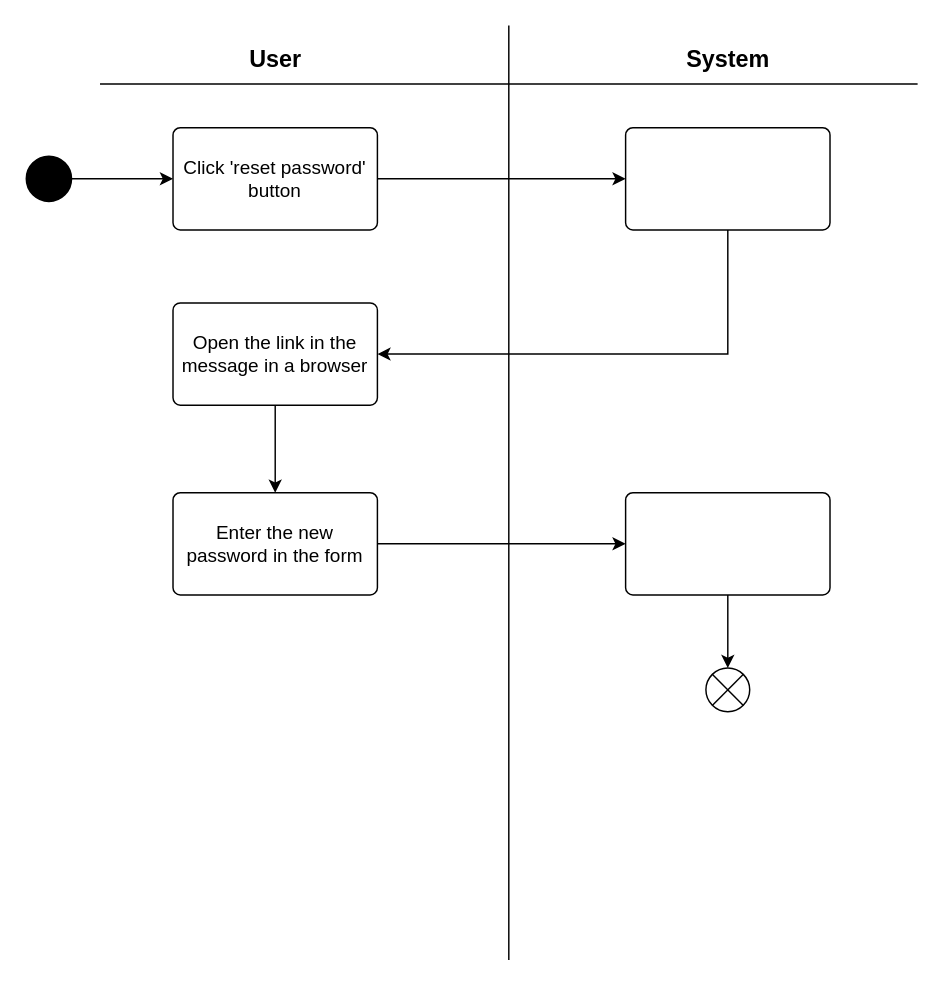
Some shapes in this 945 by 987 pixel diagram are drawn without their labels. The centre of each missing label's shape, as x and y in pixels:
Send password-reset message to respective email address: the point at 727,178
Update the password of the respective account.: the point at 727,543
